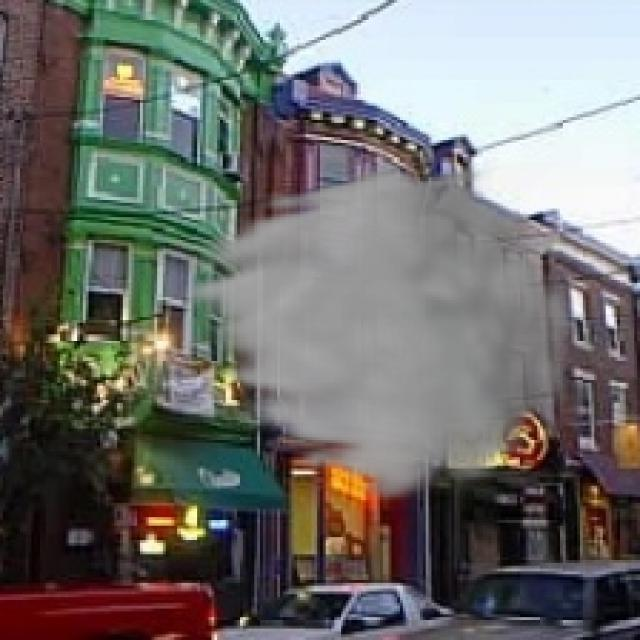smoke: (163, 163, 583, 506)
